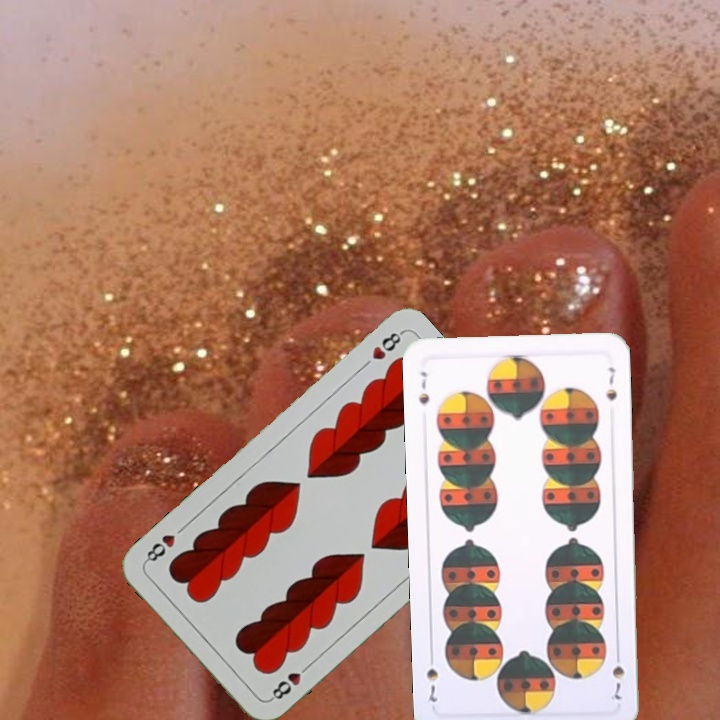H8: (265, 659, 314, 704), (368, 327, 405, 363)
S7: (608, 646, 627, 706), (414, 367, 432, 407)
